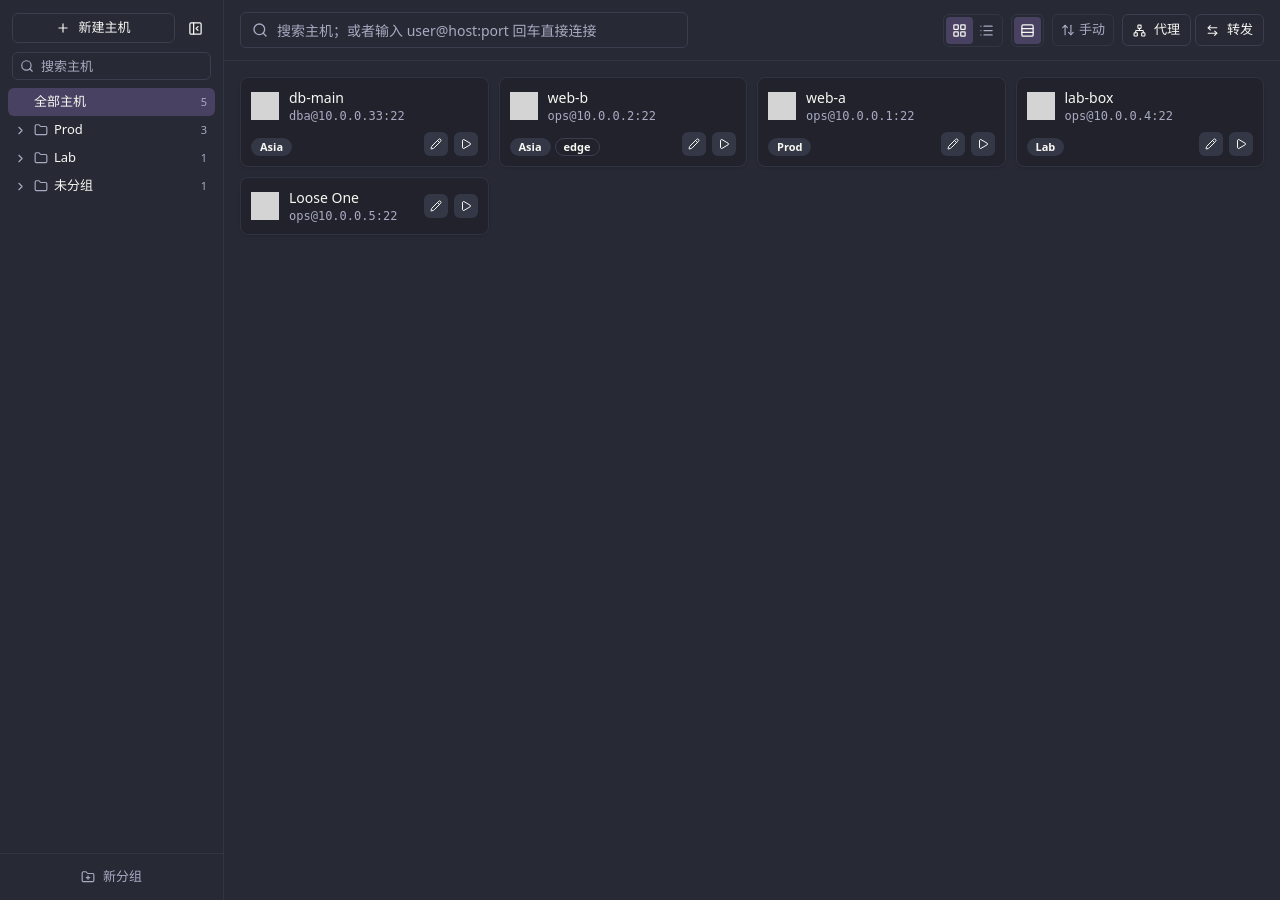
主机树搜索框 › 树里单击 / 双击 / 右键的行为不变
Type "lab" into the field named "搜索主机树".
click(112, 66); type("lab")  # box [12,52,211,80]
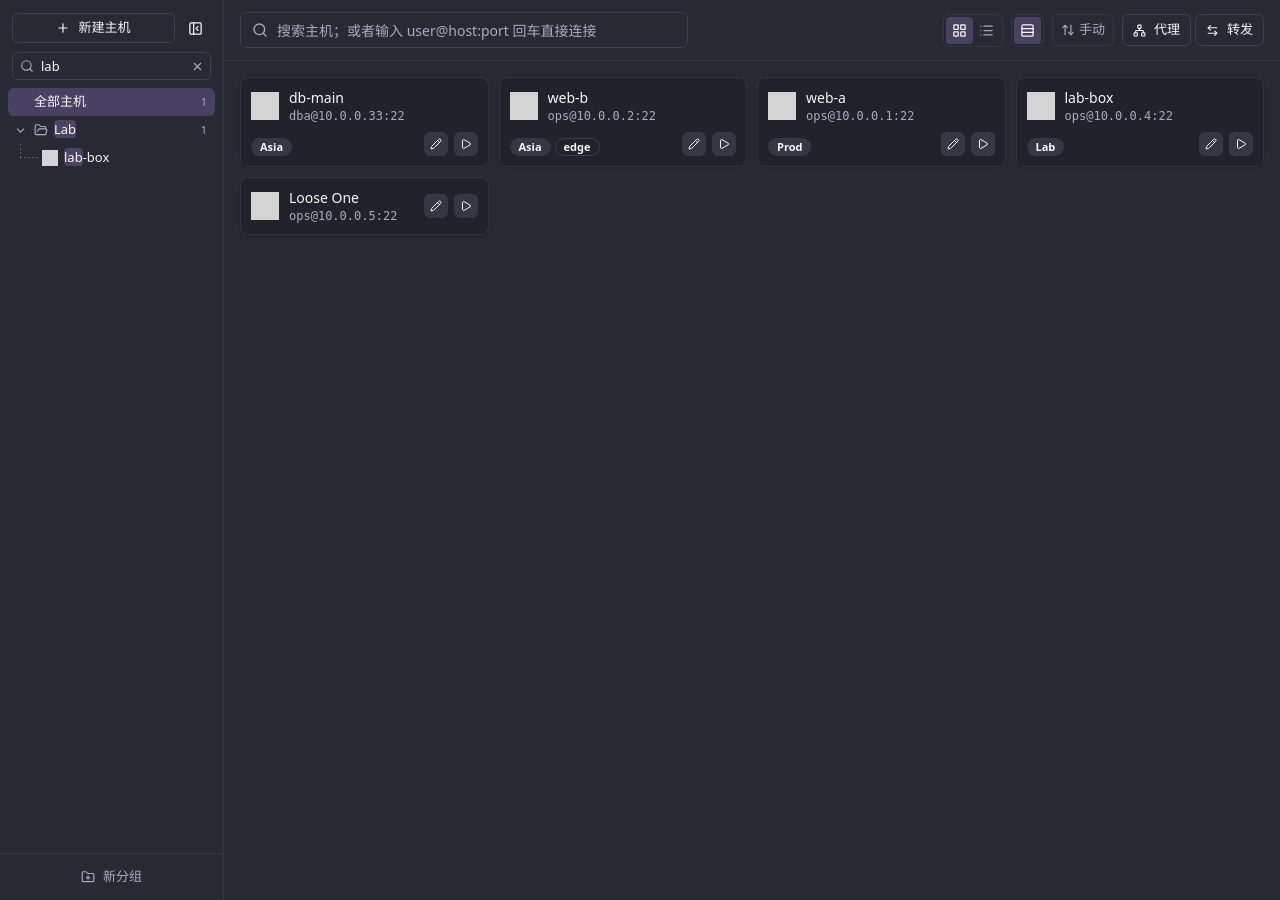
Click the button "lab-box".
click(112, 158)  # box [8,144,215,172]
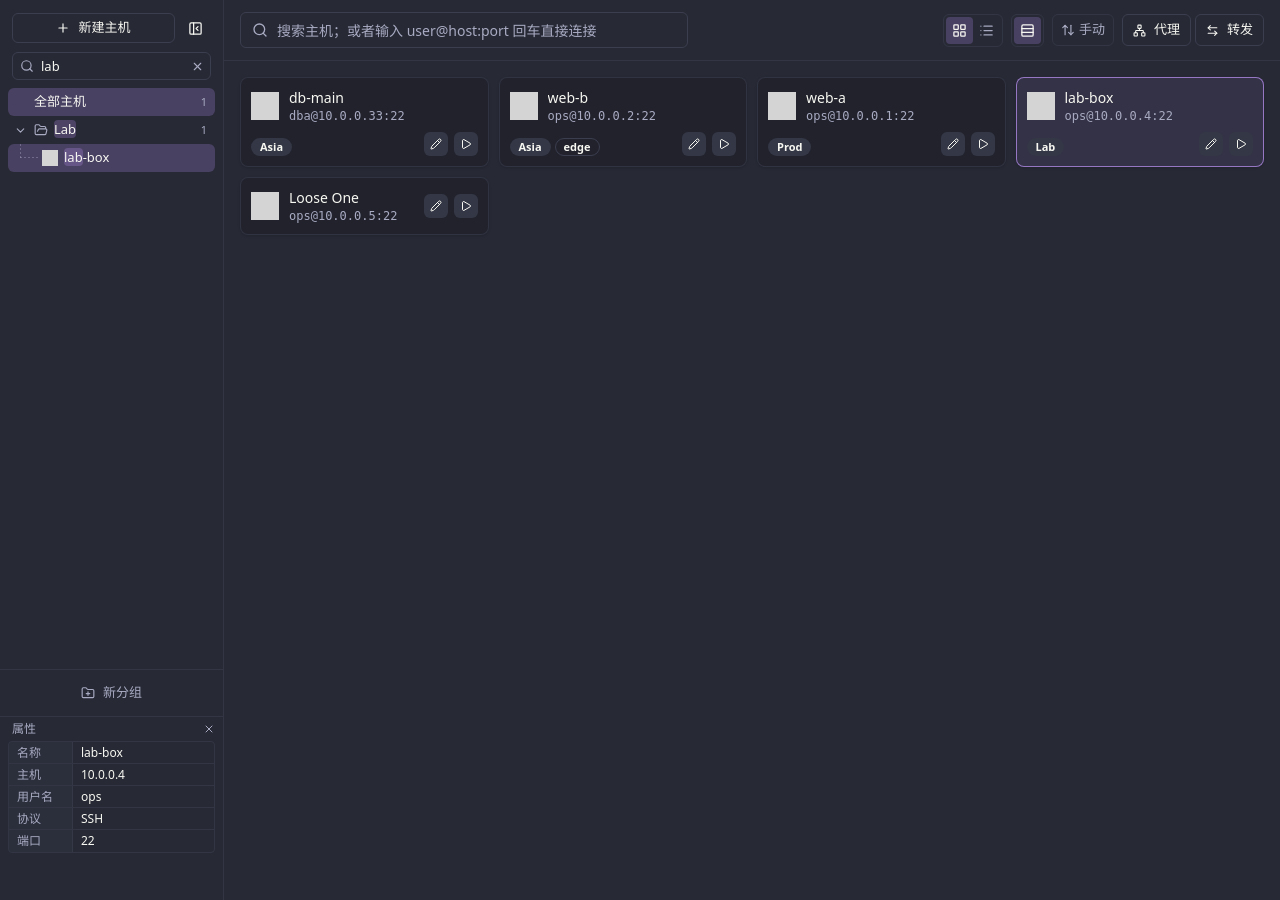
Expected: the element showing "属性 名称 lab-box 主机 10.0.0.4 用户名 ops 协议 SSH 端口 22" is shown, [0,716,223,899]
Double-click the button "lab-box".
double_click(112, 158)  # box [8,144,215,172]
Right-click the button "lab-box".
right_click(112, 158)  # box [8,144,215,172]
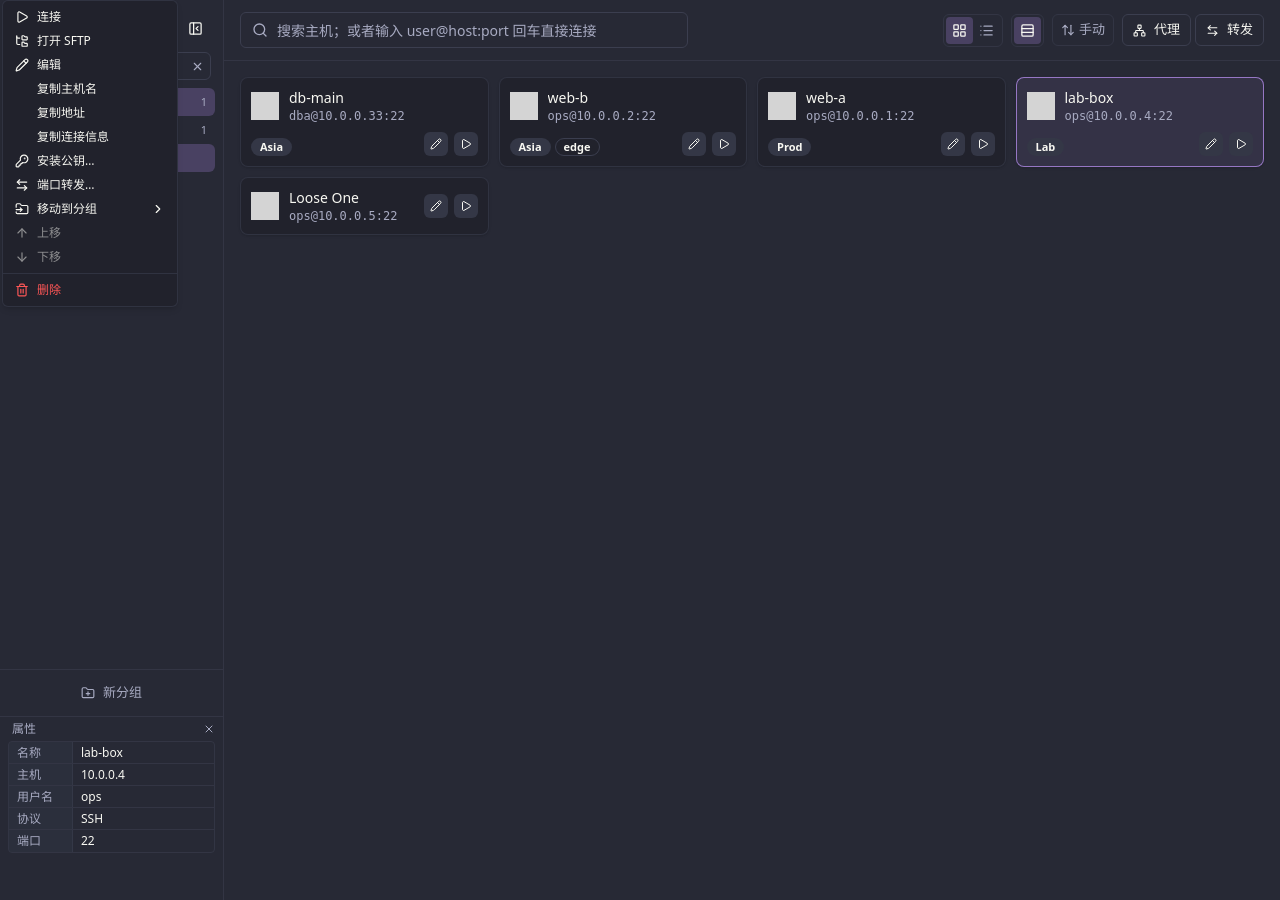
Expected: the menu item "移动到分组" is shown, [7,197,173,221]
